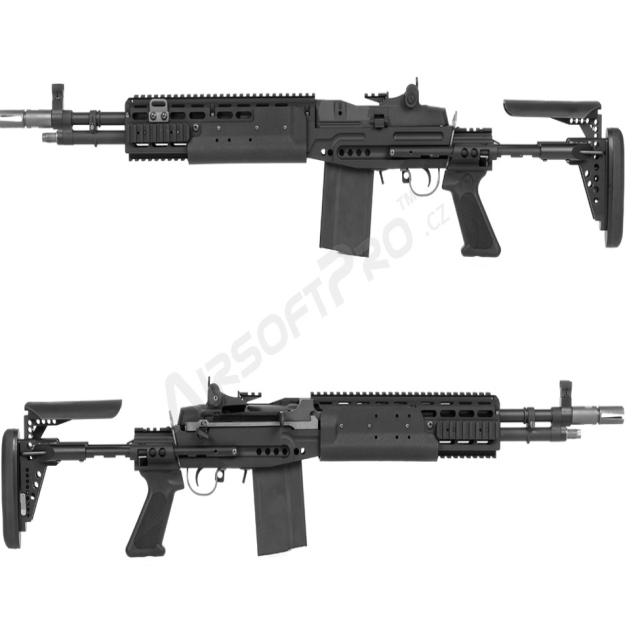Gun: (0, 341, 640, 613), (1, 27, 636, 285)
